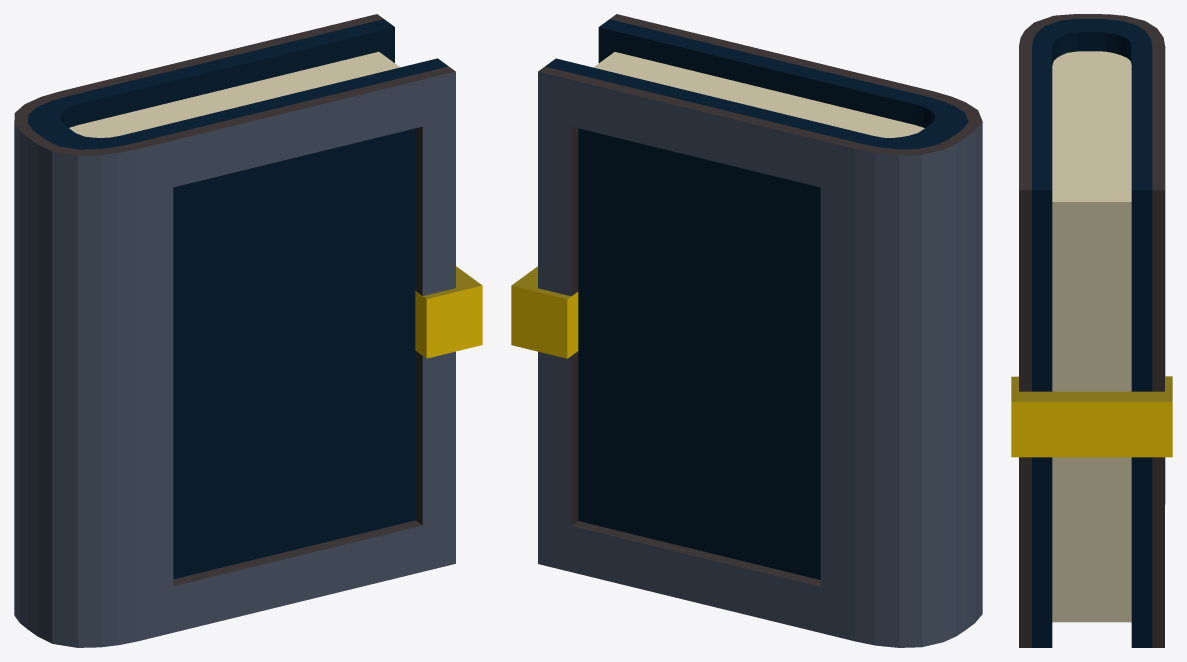
File: Livro.fbx
3 views of the same model, side by side, from view 1: azimuth 30°, elevation 25°; view 2: azimuth 150°, elevation 25°; view 3: azimuth 270°, elevation 25° (orthographic). The views are drawn at different scales.
Visible parts, largest first — view 1: Cube; view 2: Cube; view 3: Cube.
Boxes of the visible parts, x1,y1,x2,y2 form: Cube: [14, 14, 482, 647]; Cube: [511, 14, 982, 647]; Cube: [1011, 14, 1172, 647].
Bounding box in the file's own units: 289 × 330 × 105.
